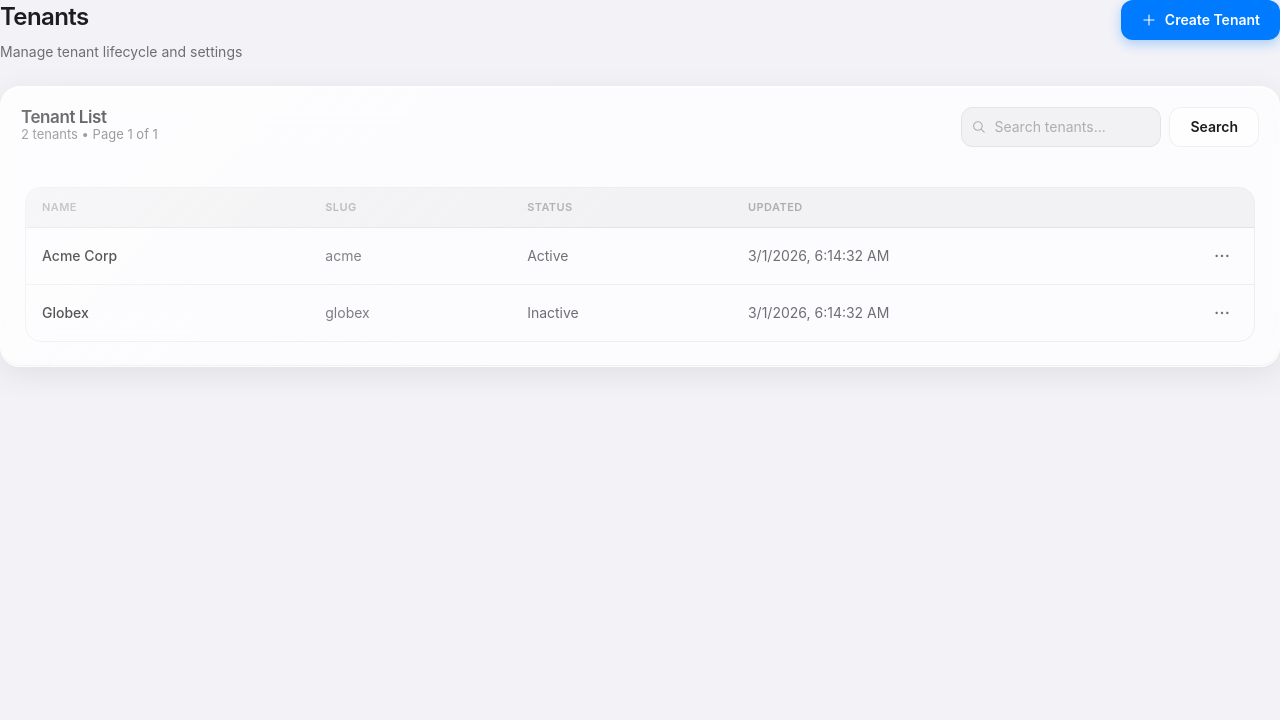
Test: Tenants Page › opens edit dialog when clicking Edit in dropdown menu
// Click the dropdown menu button (first one for Acme Corp)
Click the button named "open menu" in the row of "Acme Corp". click: [1222, 256]
box: [1206,240,1238,272]
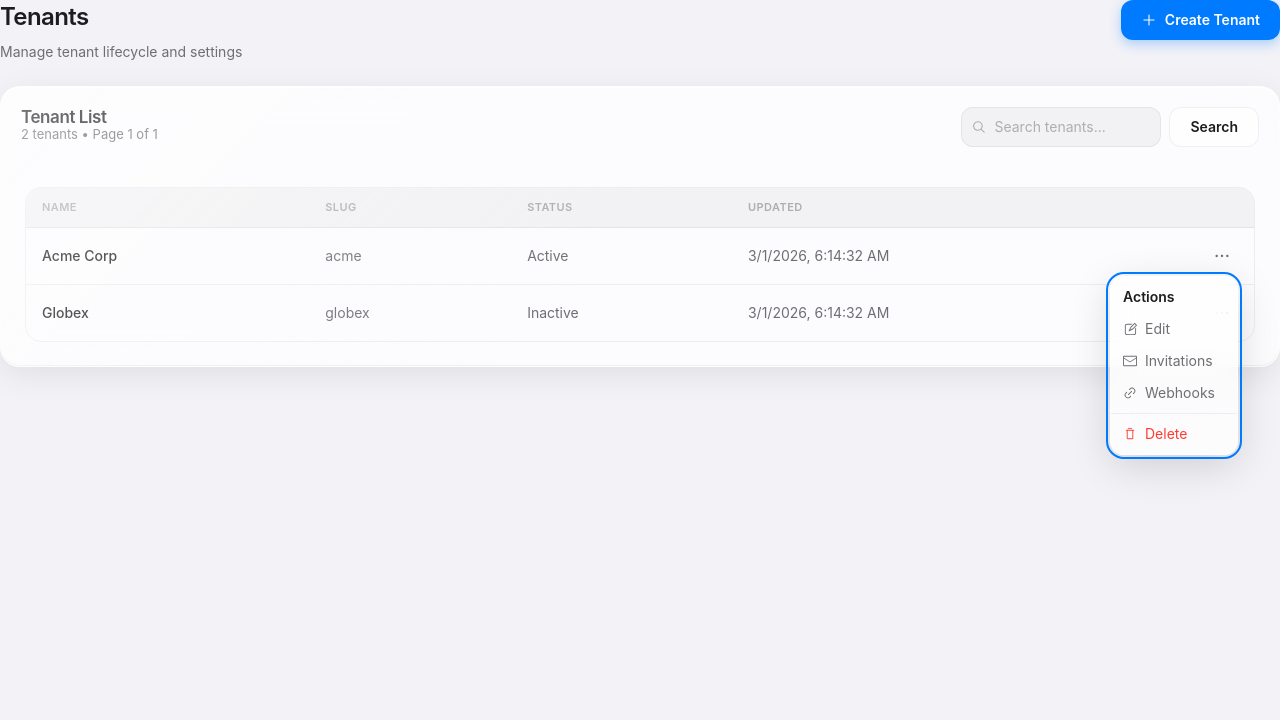
// Click Edit option in the dropdown menu (use menuitem role to target dropdown)
Click the menu item "Edit". click: [1146, 328]
box: [1123,320,1170,337]
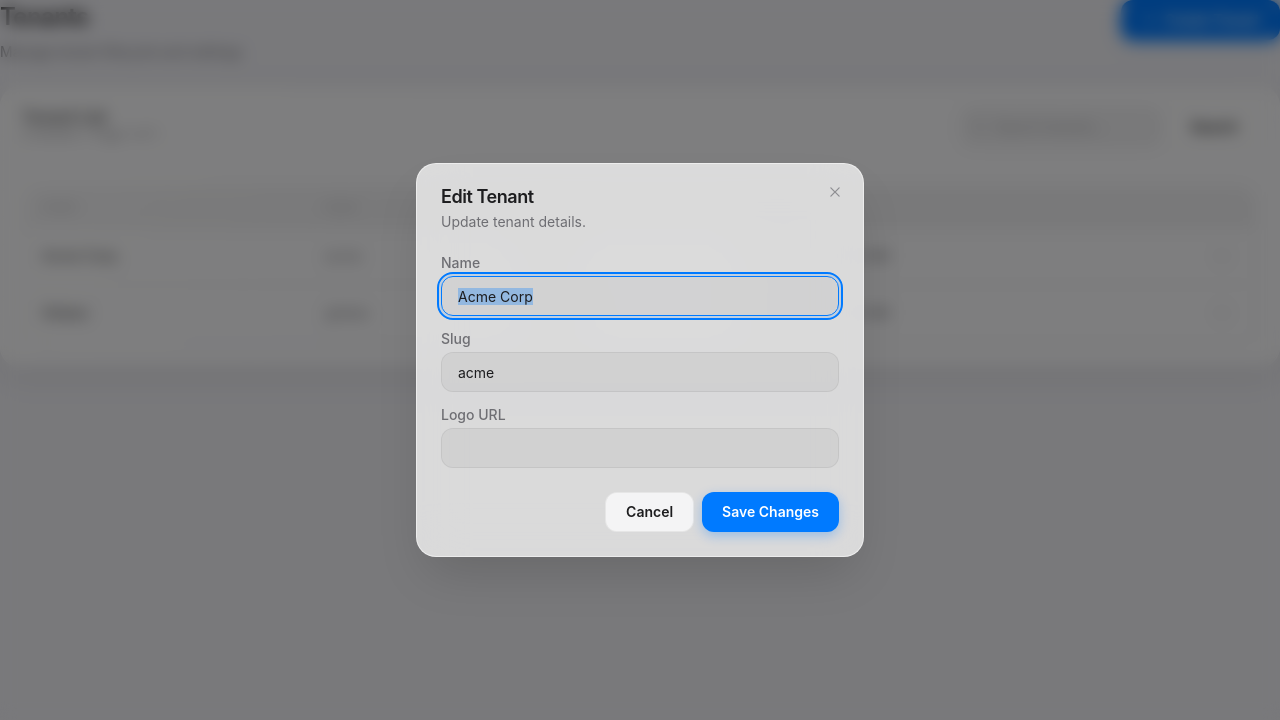
Now the dialog is shown, box [416,163,864,557]
Now the heading "Edit Tenant" is shown, box [441,186,534,207]
Now the text "Update tenant details." is shown, box [441,213,586,230]
